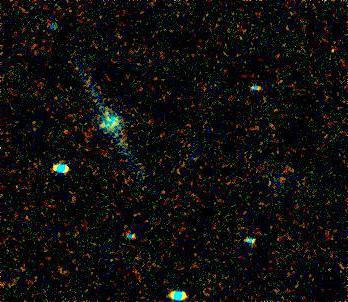star: (93, 100, 123, 130)
